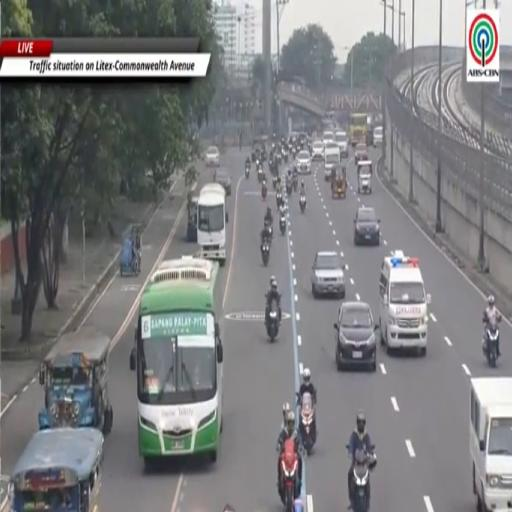bus: (130, 256, 223, 467), (349, 114, 366, 147)
car: (334, 301, 378, 371), (312, 251, 345, 298), (354, 206, 380, 245), (215, 168, 231, 196), (296, 150, 311, 173), (335, 132, 348, 157), (205, 147, 220, 167), (355, 143, 368, 165), (312, 140, 324, 161), (373, 126, 383, 148), (323, 132, 333, 145)
jeepney: (39, 326, 112, 435), (9, 428, 103, 511), (186, 197, 198, 243), (357, 160, 372, 194)
motorcycle: (351, 447, 376, 511), (280, 439, 299, 511), (298, 393, 316, 455), (484, 317, 499, 367), (266, 310, 279, 342), (261, 242, 269, 266), (286, 180, 292, 197), (300, 196, 306, 213), (280, 215, 285, 235), (262, 182, 267, 201), (276, 192, 282, 207), (292, 174, 297, 191), (250, 150, 256, 164), (267, 226, 272, 242), (258, 167, 263, 182), (283, 150, 288, 163), (245, 166, 250, 179), (277, 152, 282, 164), (273, 175, 277, 189), (262, 151, 267, 162), (292, 147, 296, 158)
tricycle: (120, 227, 142, 276), (332, 171, 346, 198)
truck: (470, 377, 511, 511), (197, 183, 227, 265), (324, 141, 340, 180)
